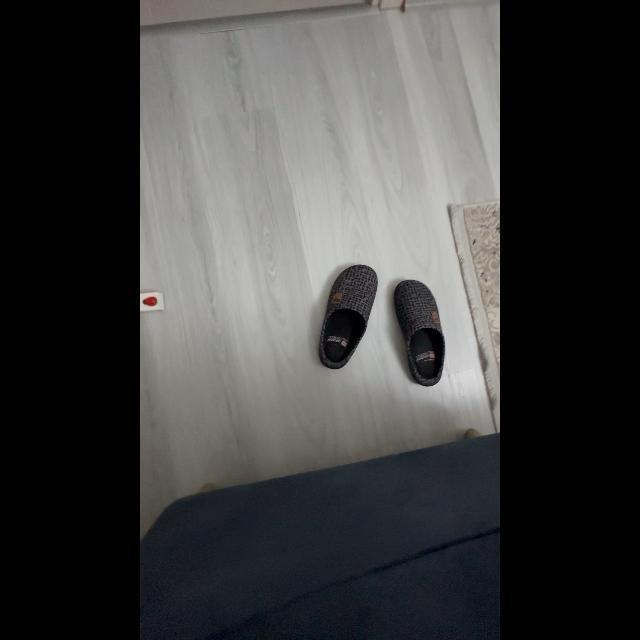slipper: (309, 252, 381, 376), (386, 275, 452, 391)
